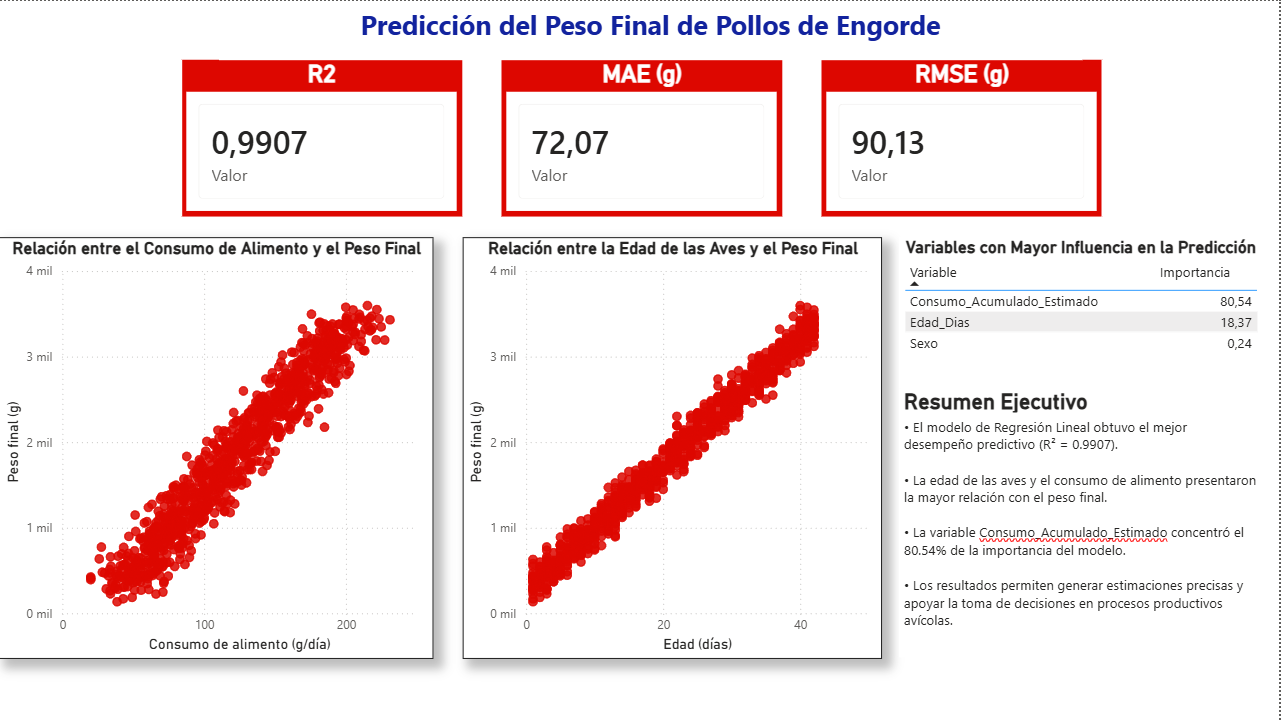

The page's visual inventory and layout, read from the dashboard file:
{"tool":"powerbi","page":{"name":"Página 1","canvas":[1280,720],"ordinal":0},"visuals":[{"type":"scatterChart","title":"Relación entre la Edad de las Aves y el Peso Final","fields":{"X":["Datos_Pollos.Edad_Dias"],"Y":["Datos_Pollos.Peso_Final_g"]},"box":[463.7,236.5,419.4,421.2],"z":0},{"type":"scatterChart","title":"Relación entre el Consumo de Alimento y el Peso Final","fields":{"X":["Datos_Pollos.Consumo_Alimento_g_dia"],"Y":["Datos_Pollos.Peso_Final_g"]},"box":[0,236.5,434.2,421.2],"z":1000},{"type":"tableEx","title":"Variables con Mayor Influencia en la Predicción","fields":{"Values":["Importancia_Variables.Variable","Importancia_Variables.Importancia"]},"box":[899.8,236.5,364,151.5],"z":2000},{"type":"cardVisual","title":"R2","fields":{"Data":["Sum(Metricas_Modelo.Valor)"]},"box":[182.9,59.1,280.8,157],"z":3000},{"type":"cardVisual","title":"MAE (g)","fields":{"Data":["Sum(Metricas_Modelo.Valor)"]},"box":[502.5,59.1,280.8,157],"z":4000},{"type":"cardVisual","title":"RMSE (g)","fields":{"Data":["Sum(Metricas_Modelo.Valor)"]},"box":[822.2,59.1,280.8,157],"z":5000},{"type":"textbox","box":[0,59,183,157],"z":6000},{"type":"textbox","box":[1103,59,161,157],"z":7000},{"type":"textbox","box":[219.9,0,862.8,59.1],"z":8000},{"type":"textbox","title":"Resumen Ejecutivo","box":[900,388,364,269],"z":8001}]}

Visuals, with their boxes in screenshot pixels (x1, y1, x2, y2), scaled from the page's 1280x720 canvas onto the 1282x720 screenshot:
"Relación entre la Edad de las Aves y el Peso Final" scatterChart: rect(464, 236, 884, 658)
"Relación entre el Consumo de Alimento y el Peso Final" scatterChart: rect(0, 236, 435, 658)
"Variables con Mayor Influencia en la Predicción" tableEx: rect(901, 236, 1266, 388)
"R2" cardVisual: rect(183, 59, 464, 216)
"MAE (g)" cardVisual: rect(503, 59, 785, 216)
"RMSE (g)" cardVisual: rect(823, 59, 1105, 216)
textbox: rect(0, 59, 183, 216)
textbox: rect(1105, 59, 1266, 216)
textbox: rect(220, 0, 1084, 59)
"Resumen Ejecutivo" textbox: rect(901, 388, 1266, 657)
